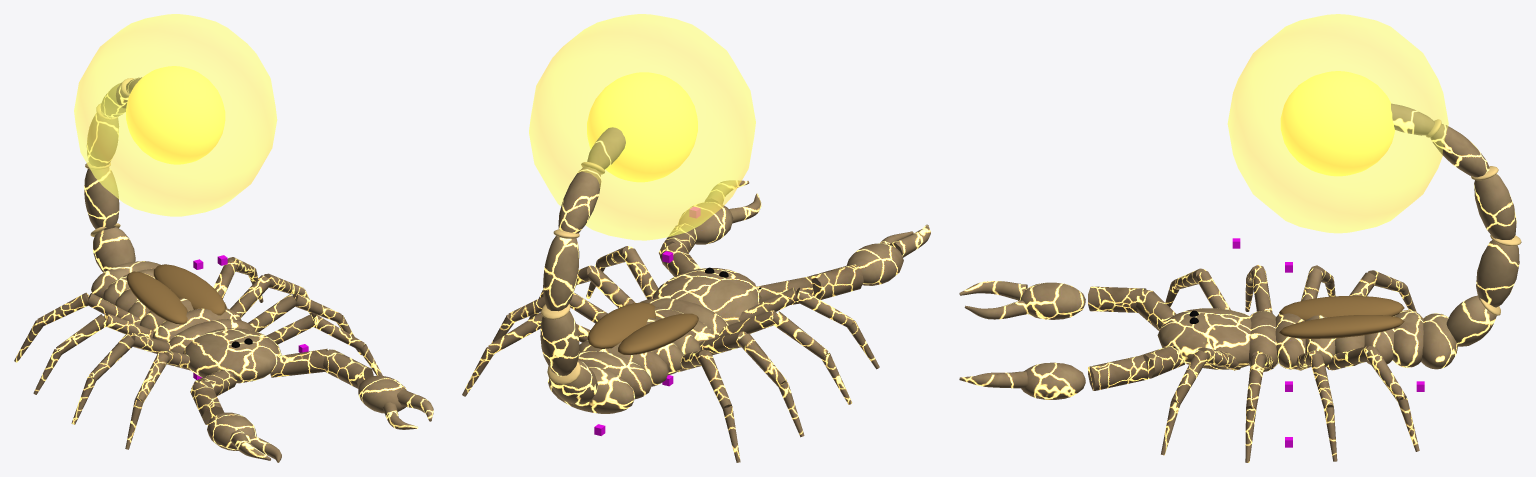
File: 01_scorpione_lanterna.glb
The picture shows the model from 3 angles, left to right: view 1: azimuth 30°, elevation 25°; view 2: azimuth 150°, elevation 25°; view 3: azimuth 270°, elevation 25°; orthographic projection. The views are drawn at different scales.
Parts seen in each view (by area): view 1: Scorpione__Alone__Coda, Scorpione__Zampe, Scorpione__Corazza, Scorpione__Bulbo_Smerigliato__Coda, Scorpione__Corazza__Coda, Scorpione__Elitre; view 2: Scorpione__Alone__Coda, Scorpione__Zampe, Scorpione__Corazza, Scorpione__Bulbo_Smerigliato__Coda, Scorpione__Corazza__Coda, Scorpione__Elitre, Scorpione__Anelli_Oro__Coda; view 3: Scorpione__Alone__Coda, Scorpione__Corazza, Scorpione__Zampe, Scorpione__Bulbo_Smerigliato__Coda, Scorpione__Corazza__Coda, Scorpione__Elitre, Scorpione__Anelli_Oro__Coda.
Boxes of the visible parts, left/top/right/bottom form: Scorpione__Alone__Coda: left=74, top=14, right=277, bottom=216; Scorpione__Zampe: left=14, top=257, right=382, bottom=449; Scorpione__Corazza: left=91, top=261, right=433, bottom=462; Scorpione__Bulbo_Smerigliato__Coda: left=126, top=66, right=225, bottom=164; Scorpione__Corazza__Coda: left=84, top=77, right=141, bottom=272; Scorpione__Elitre: left=126, top=264, right=225, bottom=324; Scorpione__Alone__Coda: left=529, top=14, right=755, bottom=240; Scorpione__Zampe: left=462, top=223, right=879, bottom=462; Scorpione__Corazza: left=548, top=180, right=930, bottom=413; Scorpione__Bulbo_Smerigliato__Coda: left=587, top=72, right=697, bottom=182; Scorpione__Corazza__Coda: left=540, top=127, right=625, bottom=404; Scorpione__Elitre: left=587, top=302, right=698, bottom=354; Scorpione__Anelli_Oro__Coda: left=541, top=162, right=604, bottom=384; Scorpione__Alone__Coda: left=1227, top=14, right=1448, bottom=233; Scorpione__Corazza: left=959, top=281, right=1457, bottom=399; Scorpione__Zampe: left=1088, top=264, right=1419, bottom=462; Scorpione__Bulbo_Smerigliato__Coda: left=1280, top=71, right=1395, bottom=176; Scorpione__Corazza__Coda: left=1391, top=103, right=1519, bottom=346; Scorpione__Elitre: left=1279, top=295, right=1404, bottom=338; Scorpione__Anelli_Oro__Coda: left=1426, top=119, right=1521, bottom=315.
Bounding box in the file's own units: 4.15 × 4.61 × 6.41.
10 materials, 3 textured.
